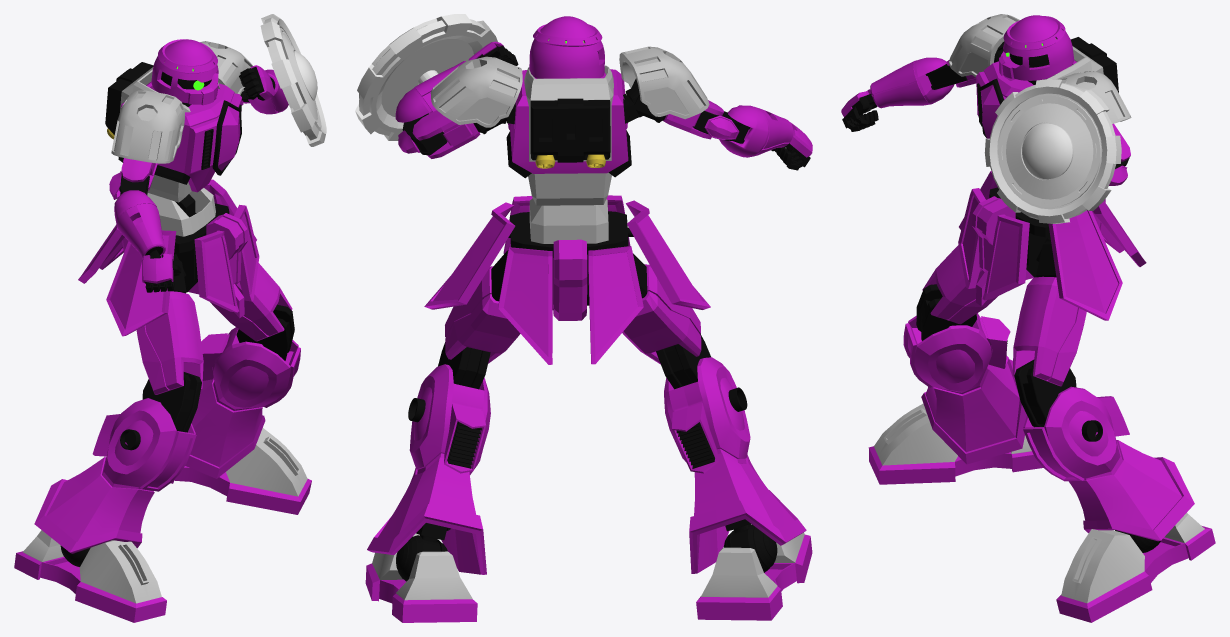
Rendered from Pawn_NormalType.fbx.
The picture shows the model from 3 angles, left to right: view 1: azimuth 30°, elevation 25°; view 2: azimuth 150°, elevation 25°; view 3: azimuth 270°, elevation 25°; orthographic projection. The views are drawn at different scales.
Visible parts, largest first — view 1: Box385, Box377, pecho_InnerFrame009, Box383, Sphere064, Shoulder_Armor_GuardType008, Shield_GuardType006, Front-Skirt_VNormal006, Box372, cabeza_Armor_NormalType002, Box388, Sphere063 (+17 smaller); view 2: Box385, Box377, Back-Skirt_VNormal006, Shield_GuardType006, pecho_InnerFrame009, Box370, Shoulder_Armor_GuardType007, Shoulder_Armor_GuardType008, Sphere064, cabeza_Armor_NormalType002, Sphere063, Box383 (+19 smaller); view 3: Shield_GuardType006, Box377, Box385, Box375, Box371, Sphere063, Front-Skirt_VNormal006, Box380, cabeza_Armor_NormalType002, Sphere064, Box388, Box383 (+14 smaller).
Boxes of the visible parts, x1,y1,x2,y2 form: Box385: [34, 398, 196, 553]; Box377: [185, 327, 300, 478]; pecho_InnerFrame009: [118, 81, 241, 202]; Box383: [136, 291, 203, 394]; Sphere064: [23, 530, 161, 603]; Shoulder_Armor_GuardType008: [111, 90, 184, 163]; Shield_GuardType006: [260, 14, 326, 146]; Front-Skirt_VNormal006: [194, 204, 259, 312]; Box372: [106, 230, 176, 336]; cabeza_Armor_NormalType002: [151, 39, 218, 105]; Box388: [14, 551, 166, 622]; Sphere063: [226, 428, 307, 496]; Box385: [664, 357, 806, 573]; Box377: [367, 364, 490, 574]; Back-Skirt_VNormal006: [498, 246, 643, 364]; Shield_GuardType006: [355, 14, 497, 140]; pecho_InnerFrame009: [506, 69, 631, 205]; Box370: [530, 98, 610, 162]; Shoulder_Armor_GuardType007: [430, 56, 522, 127]; Shoulder_Armor_GuardType008: [619, 46, 709, 119]; Sphere064: [701, 524, 804, 597]; cabeza_Armor_NormalType002: [529, 16, 604, 78]; Sphere063: [372, 533, 472, 600]; Box383: [622, 264, 701, 364]; Shield_GuardType006: [984, 79, 1121, 223]; Box377: [1023, 386, 1194, 541]; Box385: [903, 313, 1026, 464]; Box375: [1012, 276, 1086, 386]; Box371: [1048, 210, 1122, 320]; Sphere063: [1061, 513, 1204, 603]; Front-Skirt_VNormal006: [958, 188, 1029, 300]; Box380: [1056, 526, 1215, 622]; cabeza_Armor_NormalType002: [999, 15, 1074, 80]; Sphere064: [874, 403, 1031, 465]; Box388: [868, 446, 1042, 484]; Box383: [922, 245, 997, 324].
Size of the model in its own units: 865 by 1292 by 822.
